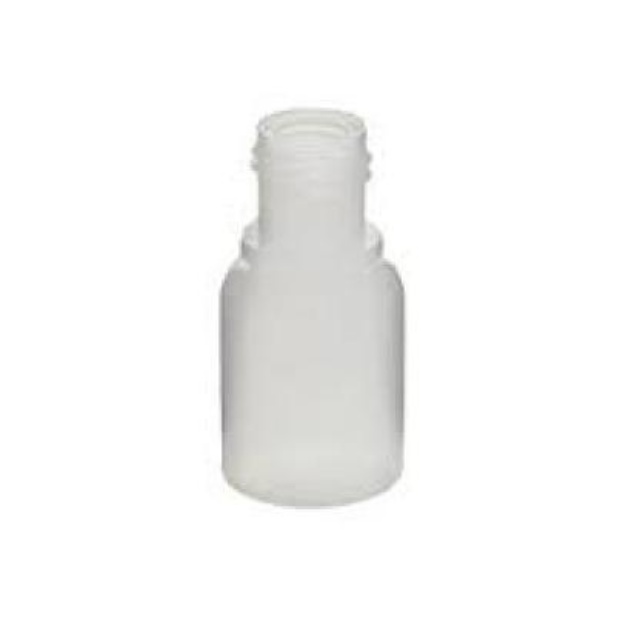trash: (222, 109, 402, 505)
